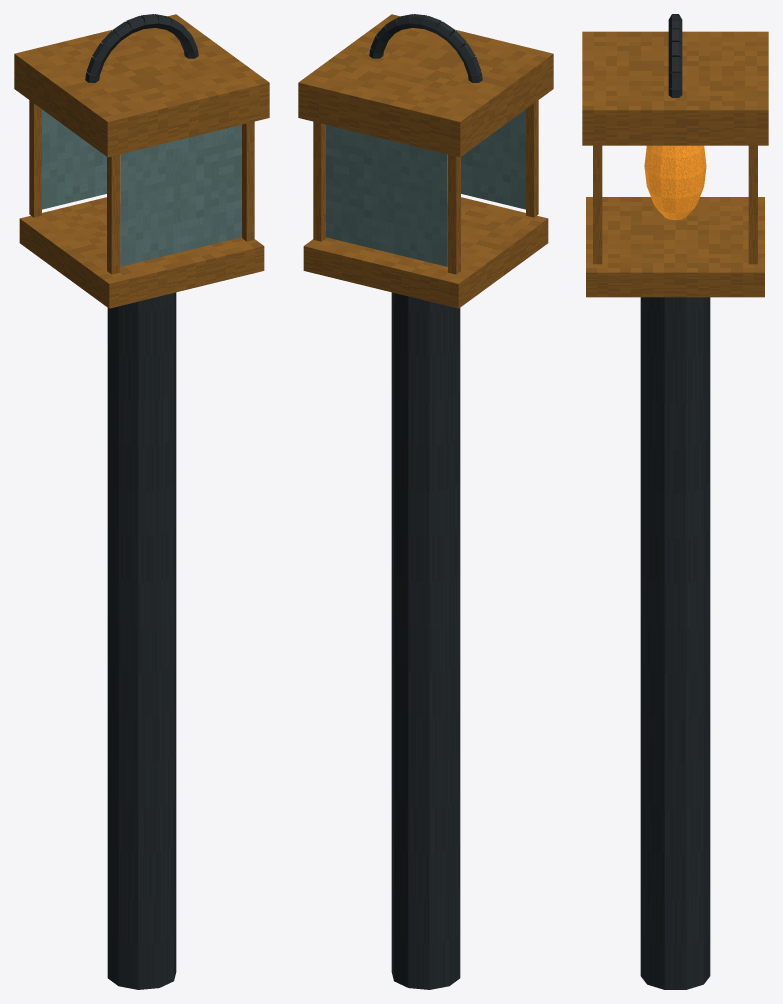
File: L_harbor_lantern.gltf
3 views of the same model, side by side, from view 1: azimuth 30°, elevation 25°; view 2: azimuth 150°, elevation 25°; view 3: azimuth 270°, elevation 25° (orthographic).
Parts seen in each view (by area): view 1: root; view 2: root; view 3: root.
Part boxes in pixels (left/top/right/bottom): root: left=14, top=14, right=269, bottom=989; root: left=298, top=14, right=553, bottom=989; root: left=582, top=14, right=768, bottom=989.
Bounding box in the file's own units: 0.48 × 2.72 × 0.48.
4 materials, 4 textured.
